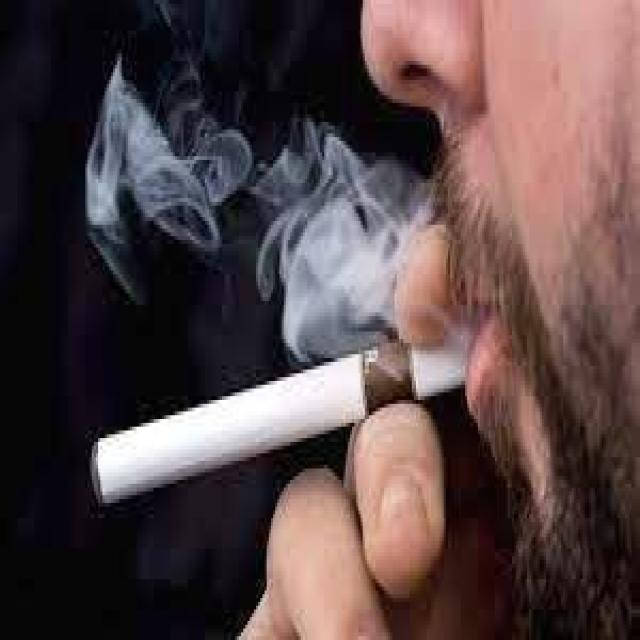smoke: (90, 305, 497, 522)
